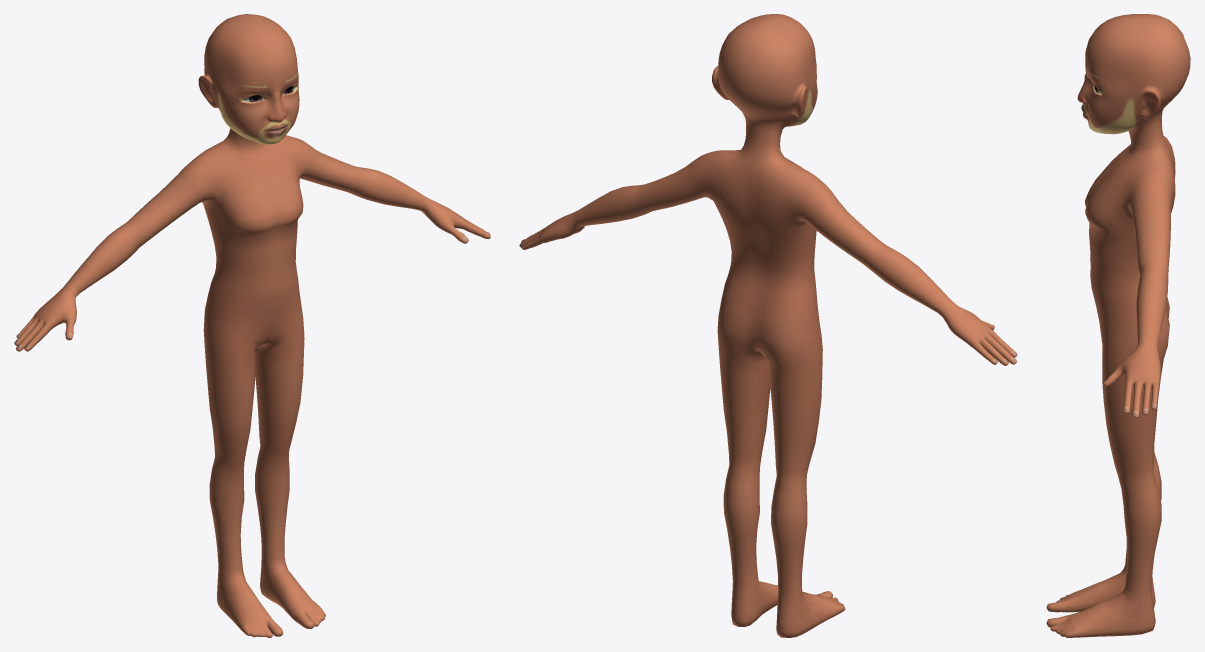
The model's file is frame_0006.glb.
3 views of the same model, side by side, from view 1: azimuth 30°, elevation 25°; view 2: azimuth 150°, elevation 25°; view 3: azimuth 270°, elevation 25° (orthographic). The views are drawn at different scales.
Visible parts, largest first — view 1: frame_0006_head_geo; view 2: frame_0006_head_geo; view 3: frame_0006_head_geo.
Part boxes in pixels (box(x1,y1,x2,y2)): frame_0006_head_geo: box(14, 14, 490, 637); frame_0006_head_geo: box(519, 14, 1017, 637); frame_0006_head_geo: box(1046, 14, 1190, 637).
Size of the model in its own units: 1.28 by 1.5 by 0.3253.
3 materials, 3 textured.
